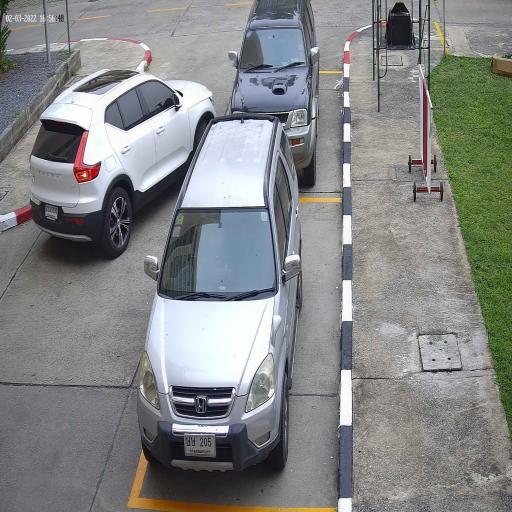car: (136, 112, 304, 475), (28, 68, 218, 260), (227, 0, 320, 190)
